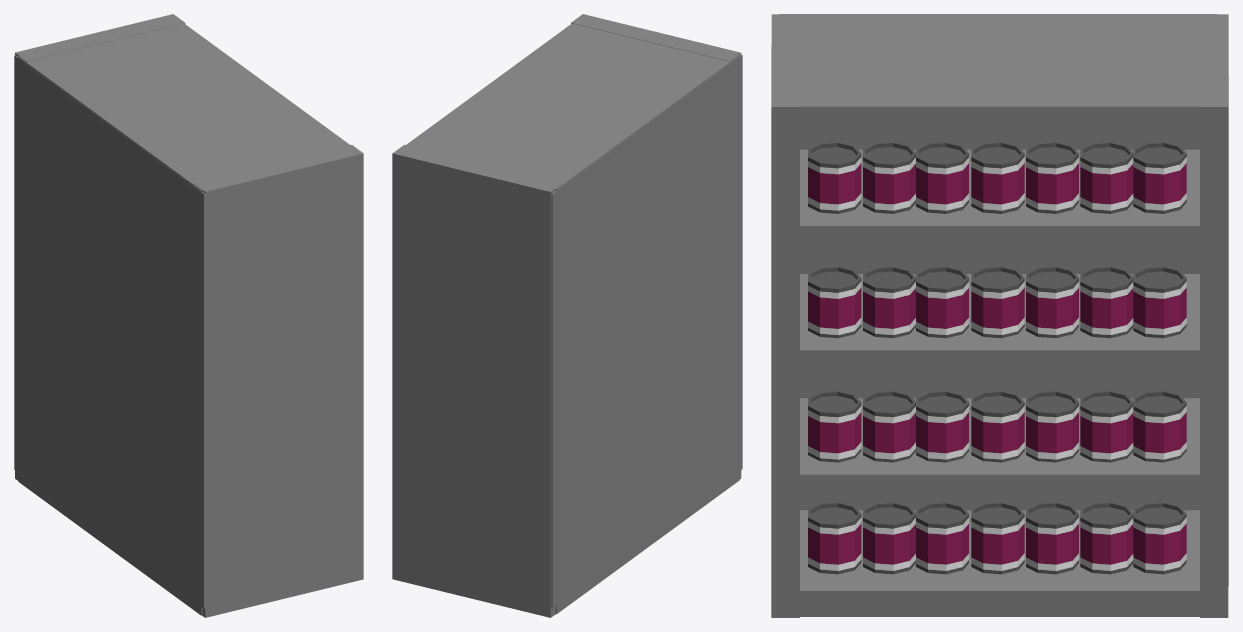
The model's file is beets_cans_shelf.gltf.
The picture shows the model from 3 angles, left to right: view 1: azimuth 30°, elevation 25°; view 2: azimuth 150°, elevation 25°; view 3: azimuth 270°, elevation 25°; orthographic projection. The views are drawn at different scales.
Parts seen in each view (by area): view 1: Cylinder; view 2: Cylinder; view 3: Cylinder.
Part boxes in pixels (x1=…): Cylinder: x1=14, y1=14, x2=363, y2=617; Cylinder: x1=392, y1=14, x2=742, y2=617; Cylinder: x1=771, y1=14, x2=1228, y2=617.
Bounding box in the file's own units: 4.03 × 10.28 × 8.34.
4 materials, 1 textured.
